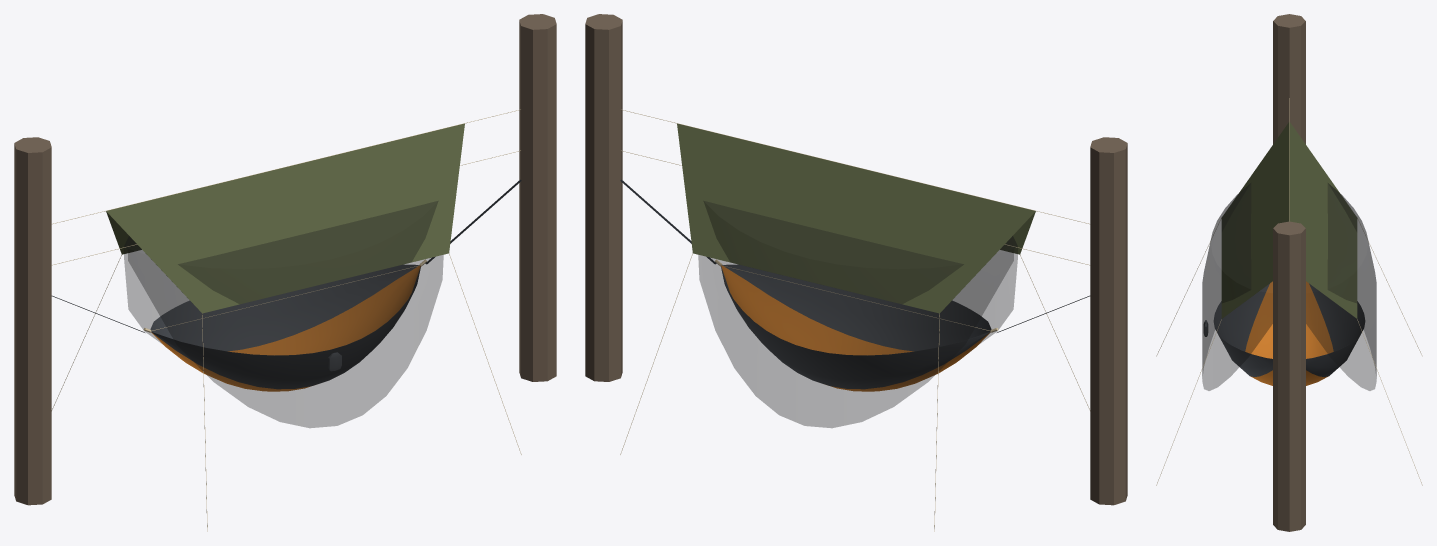
The model's file is hammock_camping_shelter.mid.glb.
3 renders of one model, left to right at view 1: azimuth 30°, elevation 25°; view 2: azimuth 150°, elevation 25°; view 3: azimuth 270°, elevation 25°, orthographic. The views are drawn at different scales.
Parts seen in each view (by area): view 1: hammock_camping_shelter, bed_hammock_camping_shelter; view 2: hammock_camping_shelter, bed_hammock_camping_shelter; view 3: hammock_camping_shelter, bed_hammock_camping_shelter.
Part boxes in pixels (x1,y1,x2,y2): hammock_camping_shelter: (14,14,556,531); bed_hammock_camping_shelter: (52,179,521,391); hammock_camping_shelter: (585,14,1127,531); bed_hammock_camping_shelter: (620,179,1089,391); hammock_camping_shelter: (1156,14,1422,531); bed_hammock_camping_shelter: (1203,281,1365,385).
Bounding box in the file's own units: 4.8 × 3 × 2.44.
